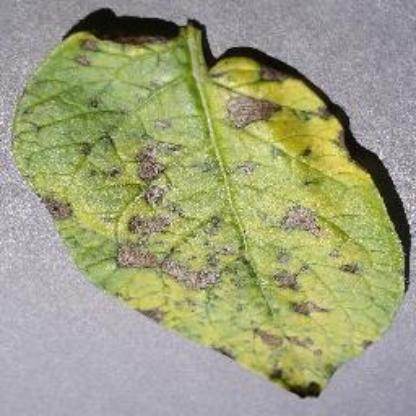Early-Blight: (14, 15, 410, 399)
